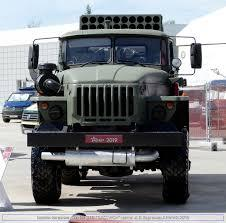MIL_SAM_TEL: (30, 13, 193, 206)
